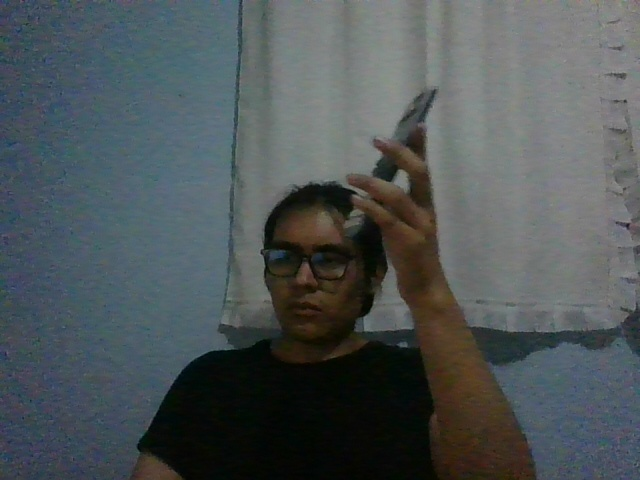calculadora: (342, 88, 437, 239)
